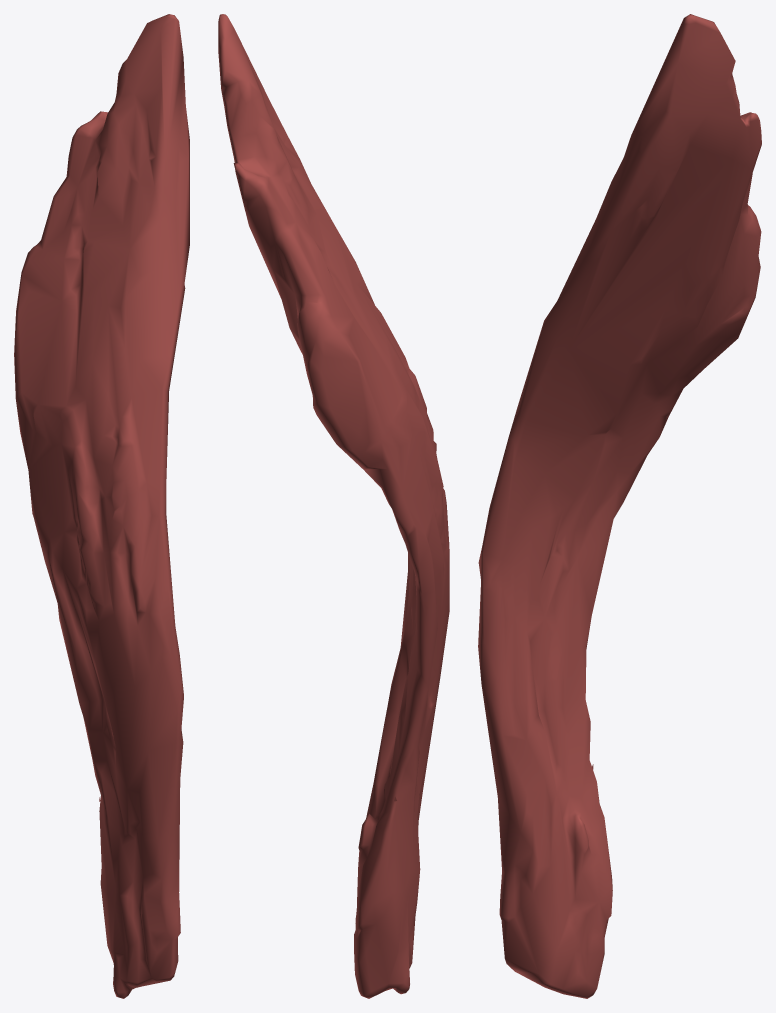
The model's file is FMA46803.glb.
The picture shows the model from 3 angles, left to right: view 1: azimuth 30°, elevation 25°; view 2: azimuth 150°, elevation 25°; view 3: azimuth 270°, elevation 25°; orthographic projection. The views are drawn at different scales.
Visible parts, largest first — view 1: FMA46803; view 2: FMA46803; view 3: FMA46803.
Boxes of the visible parts, x1,y1,x2,y2 form: FMA46803: (14, 14, 189, 998); FMA46803: (218, 14, 449, 998); FMA46803: (478, 14, 761, 998).
Size of the model in its own units: 0.00528 by 0.0282 by 0.00705.
